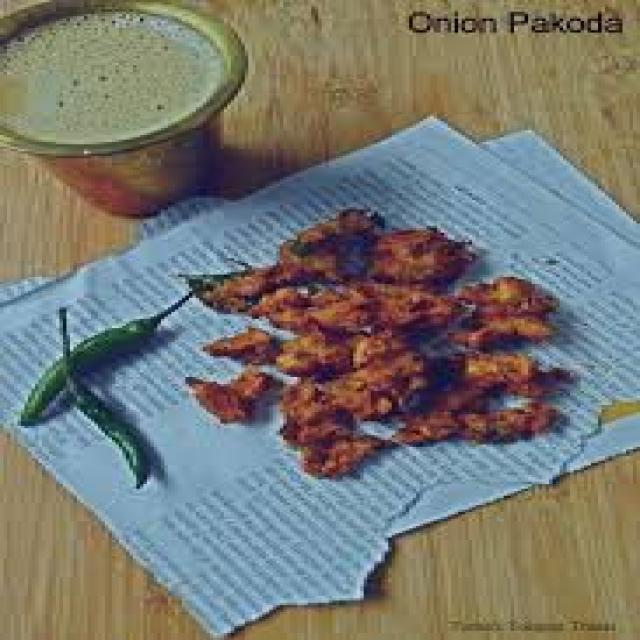BAJI: (192, 205, 567, 482)
